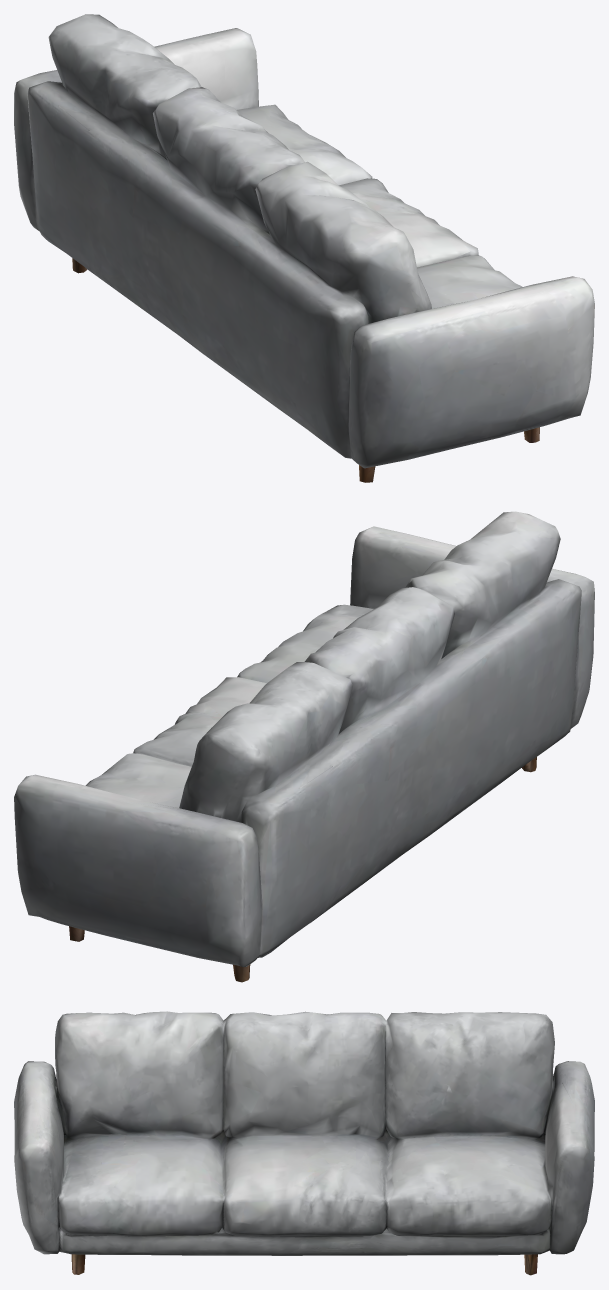
The model's file is sofa.glb.
The picture shows the model from 3 angles, top to bottom: view 1: azimuth 30°, elevation 25°; view 2: azimuth 150°, elevation 25°; view 3: azimuth 270°, elevation 25°; orthographic projection. The views are drawn at different scales.
Visible parts, largest first — view 1: tripo_node_5343887d-b750-40cf-a65d-68059b9c57f5; view 2: tripo_node_5343887d-b750-40cf-a65d-68059b9c57f5; view 3: tripo_node_5343887d-b750-40cf-a65d-68059b9c57f5.
Boxes of the visible parts, x1,y1,x2,y2 form: tripo_node_5343887d-b750-40cf-a65d-68059b9c57f5: (14, 14, 594, 482); tripo_node_5343887d-b750-40cf-a65d-68059b9c57f5: (14, 511, 594, 982); tripo_node_5343887d-b750-40cf-a65d-68059b9c57f5: (14, 1011, 594, 1275).
Bounding box in the file's own units: 0.408 × 0.3756 × 1.
Materials: 1 (1 with a texture image).
